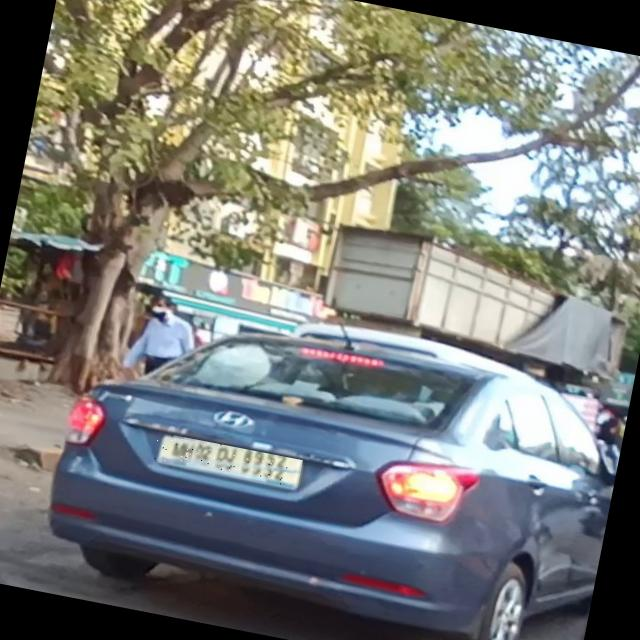Plate: (154, 433, 304, 489)
